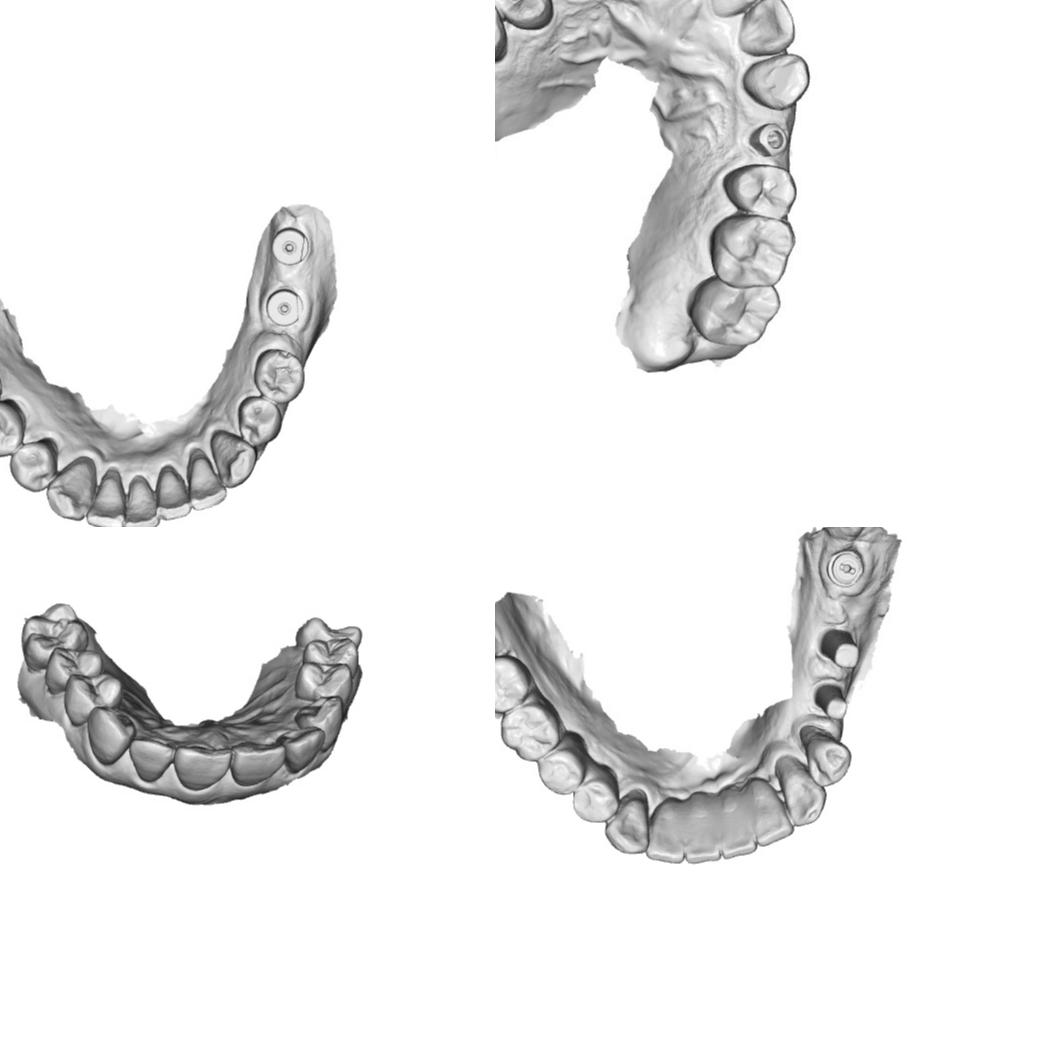abutment: (815, 625, 863, 671), (810, 679, 850, 721)
canine: (740, 52, 810, 111), (774, 754, 828, 827), (44, 457, 97, 522), (81, 704, 134, 766), (604, 786, 650, 854), (209, 428, 258, 490), (294, 697, 346, 741)
implant: (745, 113, 792, 163), (269, 225, 311, 268), (264, 287, 304, 327)
implant_minus: (824, 547, 866, 588)
incisor: (733, 0, 799, 59), (747, 776, 794, 846), (172, 734, 230, 788), (682, 790, 723, 865), (718, 788, 757, 859), (646, 796, 686, 865), (124, 735, 174, 787), (186, 455, 228, 512), (85, 473, 126, 527), (155, 468, 193, 522), (235, 742, 286, 781), (122, 478, 162, 527), (284, 730, 326, 775), (709, 0, 771, 14)
molar: (710, 210, 794, 291), (686, 276, 778, 348), (499, 698, 561, 765), (19, 600, 89, 656), (495, 653, 535, 714), (299, 616, 363, 639)
premolar: (728, 160, 797, 213), (536, 729, 588, 795), (799, 724, 852, 786), (251, 346, 306, 404), (571, 764, 621, 823), (61, 674, 126, 719), (7, 440, 58, 494), (236, 393, 286, 447), (46, 647, 115, 681), (293, 661, 356, 698), (299, 635, 359, 668), (495, 0, 551, 32), (0, 398, 26, 458)
